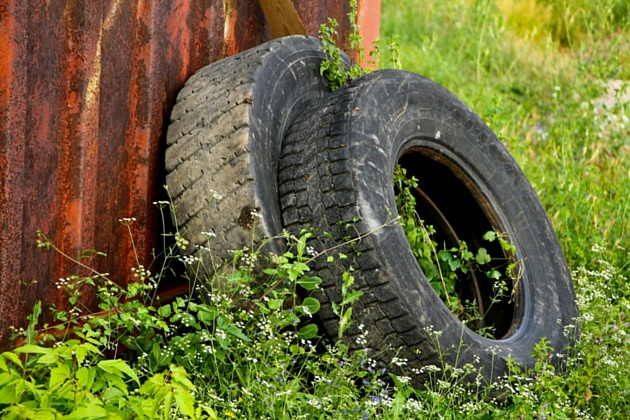tire: (291, 68, 579, 407), (173, 31, 433, 380)
